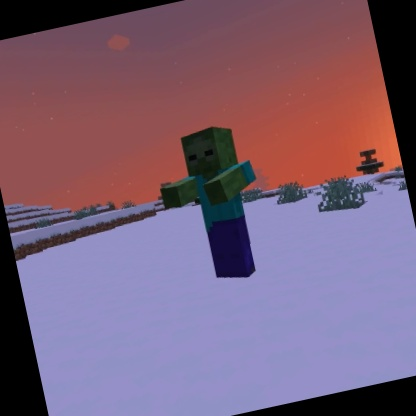zombie: (146, 116, 282, 298)
